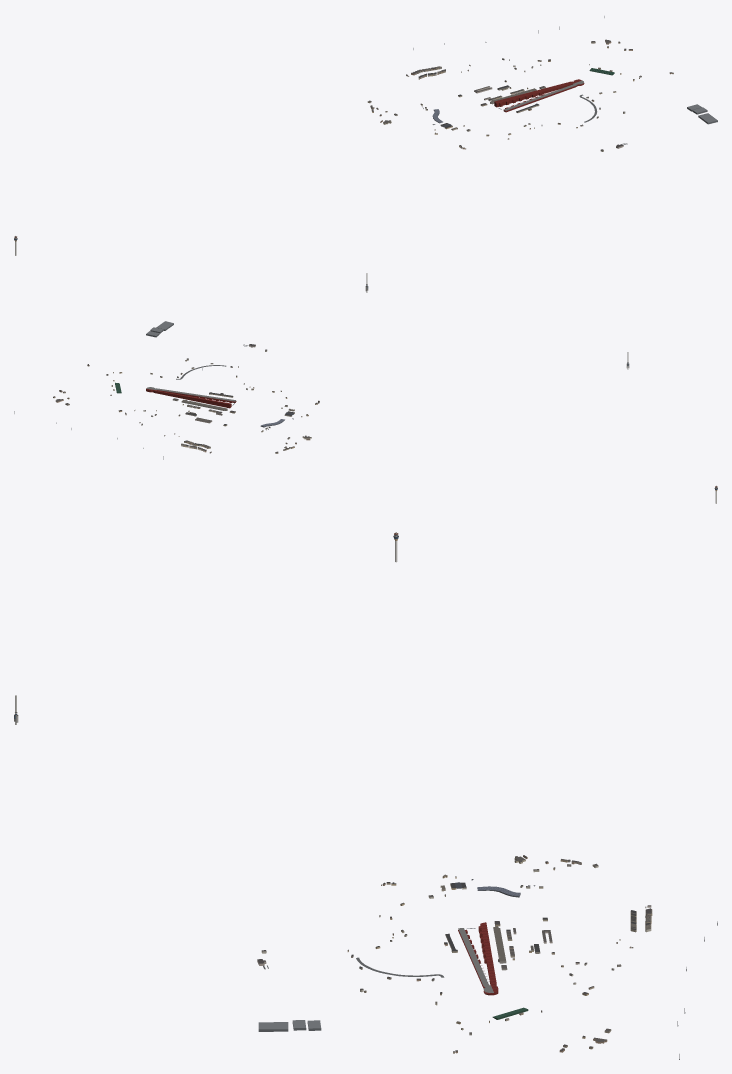
The model's file is scenery.glb.
3 views of the same model, one above another, from view 1: azimuth 30°, elevation 25°; view 2: azimuth 150°, elevation 25°; view 3: azimuth 270°, elevation 25° (orthographic). The views are drawn at different scales.
Visible parts, largest first — view 1: chunk_15_15; view 2: chunk_15_15, chunk_14_14; view 3: chunk_15_15.
Part boxes in pixels (x1,y1,x2,y2): chunk_15_15: [494, 79, 602, 112]; chunk_15_15: [146, 373, 236, 408]; chunk_14_14: [178, 399, 235, 423]; chunk_15_15: [416, 922, 498, 995].
Size of the model in its own units: 4938 by 141 by 2929.
